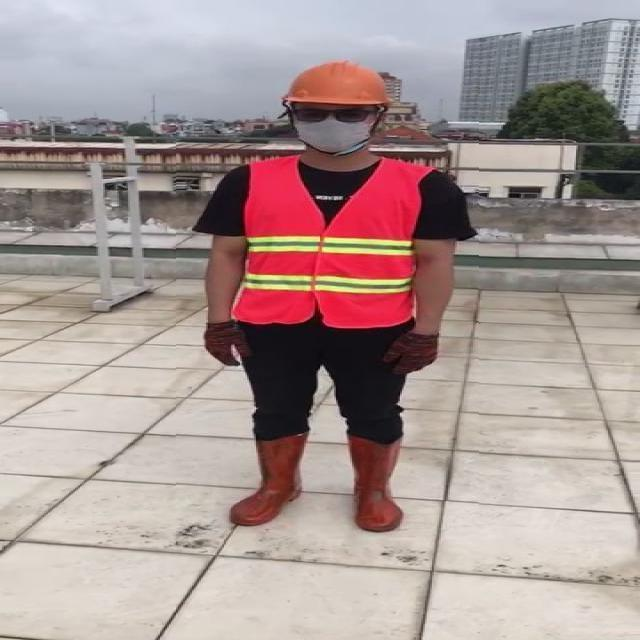goggles: (379, 323, 446, 379), (197, 310, 252, 372), (282, 104, 375, 128)
helmet: (176, 54, 479, 544), (279, 61, 398, 108)
safety_vest: (237, 161, 430, 326)
